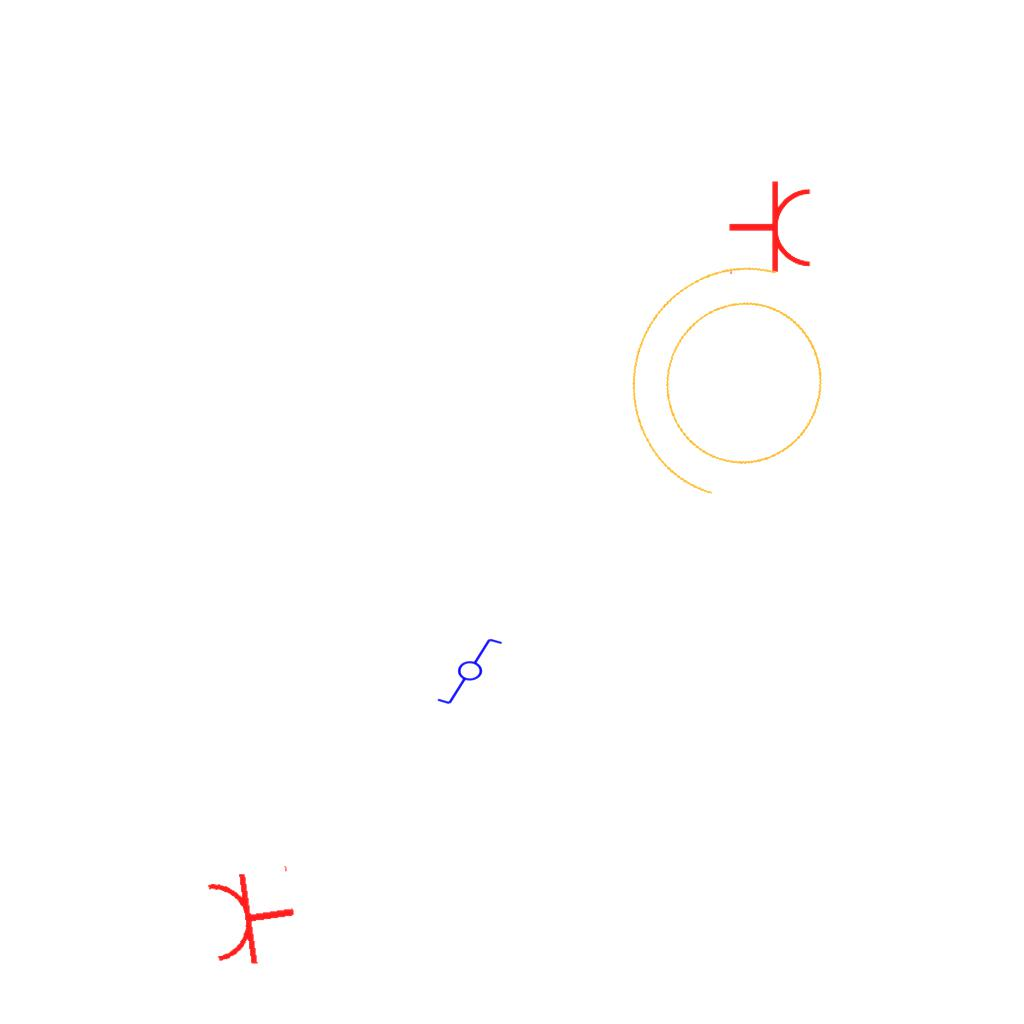Scheinwerfer_fuer_Alarmbeleuchtung: (588, 228, 878, 545)
Schukosteckdose_einfach: (202, 860, 303, 972), (727, 179, 814, 279)
Wechselschalter: (435, 636, 513, 708)
